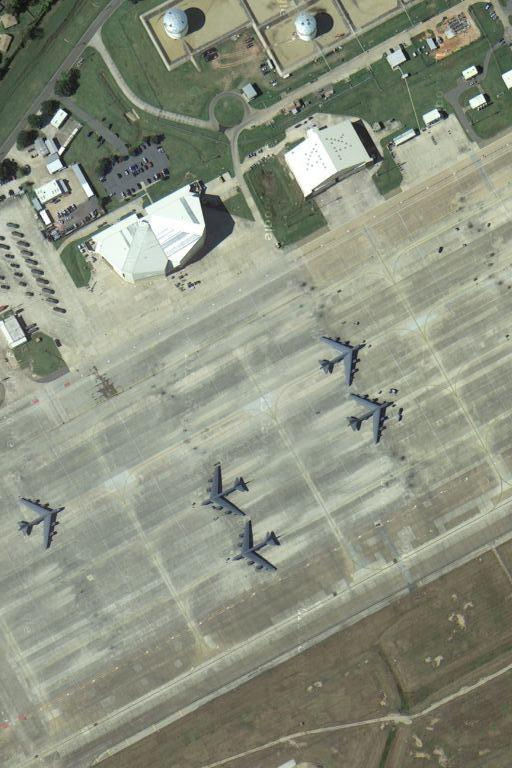B-52: (15, 492, 70, 551), (315, 332, 369, 391), (342, 389, 398, 445), (200, 462, 253, 520), (230, 524, 282, 578)
